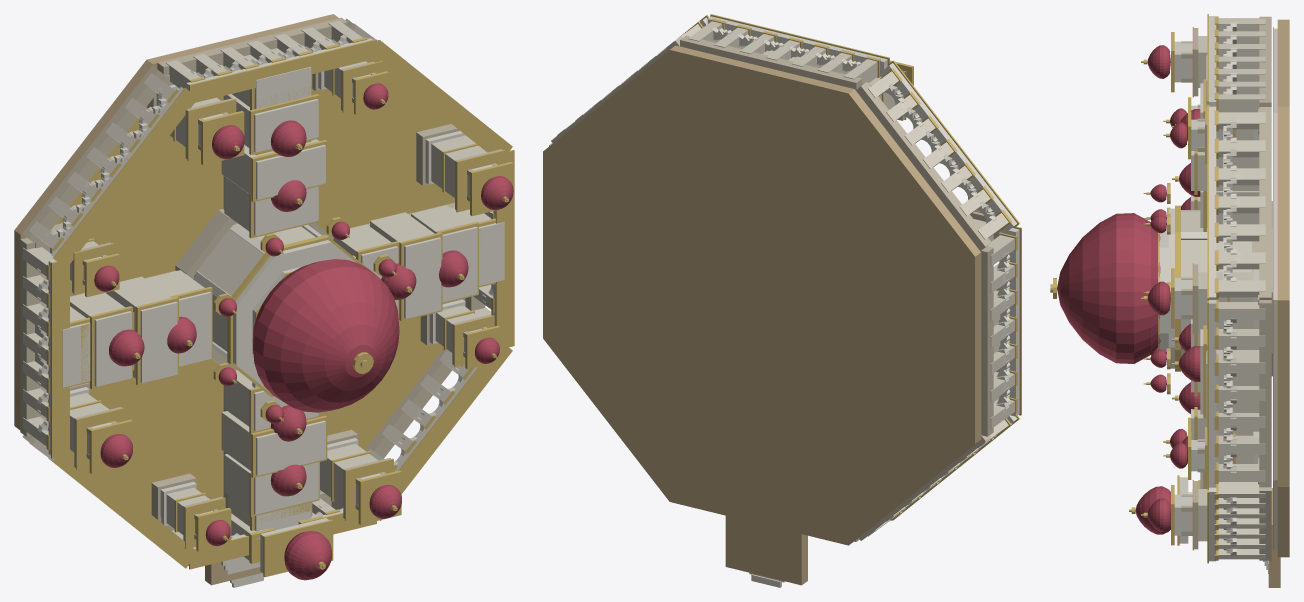
The model's file is arabian_palace_v9.glb.
3 views of the same model, side by side, from view 1: azimuth 30°, elevation 25°; view 2: azimuth 150°, elevation 25°; view 3: azimuth 270°, elevation 25° (orthographic). The views are drawn at different scales.
Parts seen in each view (by area): view 1: Gold foundation band, Great central crimson onion dome, Main octagonal foundation, Outer arcade gold roof trim_3, Central keep roof terrace, Central keep main walls, Outer arcade gold roof trim_1, Outer arcade gold roof trim_2, Outer arcade gold roof trim_5, Outer arcade gold roof trim_4, Outer wall lower foundation 4, Outer arcade gold roof trim_7 (+74 smaller); view 2: Main octagonal foundation, Main gate approach platform, Outer wall lower foundation 4, Outer wall lower foundation 5, Outer wall lower foundation 3, Outer arcade upper band_3, Outer arcade upper band_4, Outer arcade upper band_2, Outer wall lower foundation 6, Outer wall lower foundation 2; view 3: Great central crimson onion dome, Main octagonal foundation, Ivory foundation upper course, Outer wall lower foundation 2, Outer wall lower foundation 1, Central keep main walls, Outer arcade upper band_1, Outer arcade upper band, Main tower 1 shaft, Radial sculpted gallery projecting pavilion mass_3, Radial sculpted gallery projecting pavilion mass_5, Outer wall lower foundation 3 (+60 smaller).
Boxes of the visible parts, <box> form: Gold foundation band: <box>40,60,454,514</box>; Great central crimson onion dome: <box>252,259,399,412</box>; Main octagonal foundation: <box>14,14,338,430</box>; Outer arcade gold roof trim_3: <box>53,88,198,268</box>; Central keep roof terrace: <box>233,240,355,391</box>; Central keep main walls: <box>194,224,315,351</box>; Outer arcade gold roof trim_1: <box>372,40,512,155</box>; Outer arcade gold roof trim_2: <box>189,39,376,103</box>; Outer arcade gold roof trim_5: <box>53,449,198,568</box>; Outer arcade gold roof trim_4: <box>51,259,69,458</box>; Outer wall lower foundation 4: <box>22,66,164,243</box>; Outer arcade gold roof trim_7: <box>380,341,512,520</box>; Main octagonal foundation: <box>543,45,981,545</box>; Main gate approach platform: <box>725,515,807,585</box>; Outer wall lower foundation 4: <box>856,82,991,250</box>; Outer wall lower foundation 5: <box>980,246,993,436</box>; Outer wall lower foundation 3: <box>680,35,862,90</box>; Outer arcade upper band_3: <box>880,63,1017,233</box>; Outer arcade upper band_4: <box>1001,228,1019,416</box>; Outer arcade upper band_2: <box>707,16,887,76</box>; Outer wall lower foundation 6: <box>859,435,991,540</box>; Outer wall lower foundation 2: <box>551,36,682,143</box>; Great central crimson onion dome: <box>1057,213,1160,363</box>; Main octagonal foundation: <box>1277,19,1289,557</box>; Ivory foundation upper course: <box>1274,28,1277,548</box>; Outer wall lower foundation 2: <box>1259,107,1271,299</box>; Outer wall lower foundation 1: <box>1259,300,1271,487</box>; Central keep main walls: <box>1181,212,1251,356</box>; Outer arcade upper band_1: <box>1209,106,1216,299</box>; Outer arcade upper band: <box>1209,300,1216,487</box>; Main tower 1 shaft: <box>1198,272,1253,324</box>; Radial sculpted gallery projecting pavilion mass_3: <box>1216,350,1259,412</box>; Radial sculpted gallery projecting pavilion mass_5: <box>1197,152,1259,190</box>; Outer wall lower foundation 3: <box>1259,17,1271,106</box>.
Bounding box in the file's own units: 168 × 190 × 79.2.
